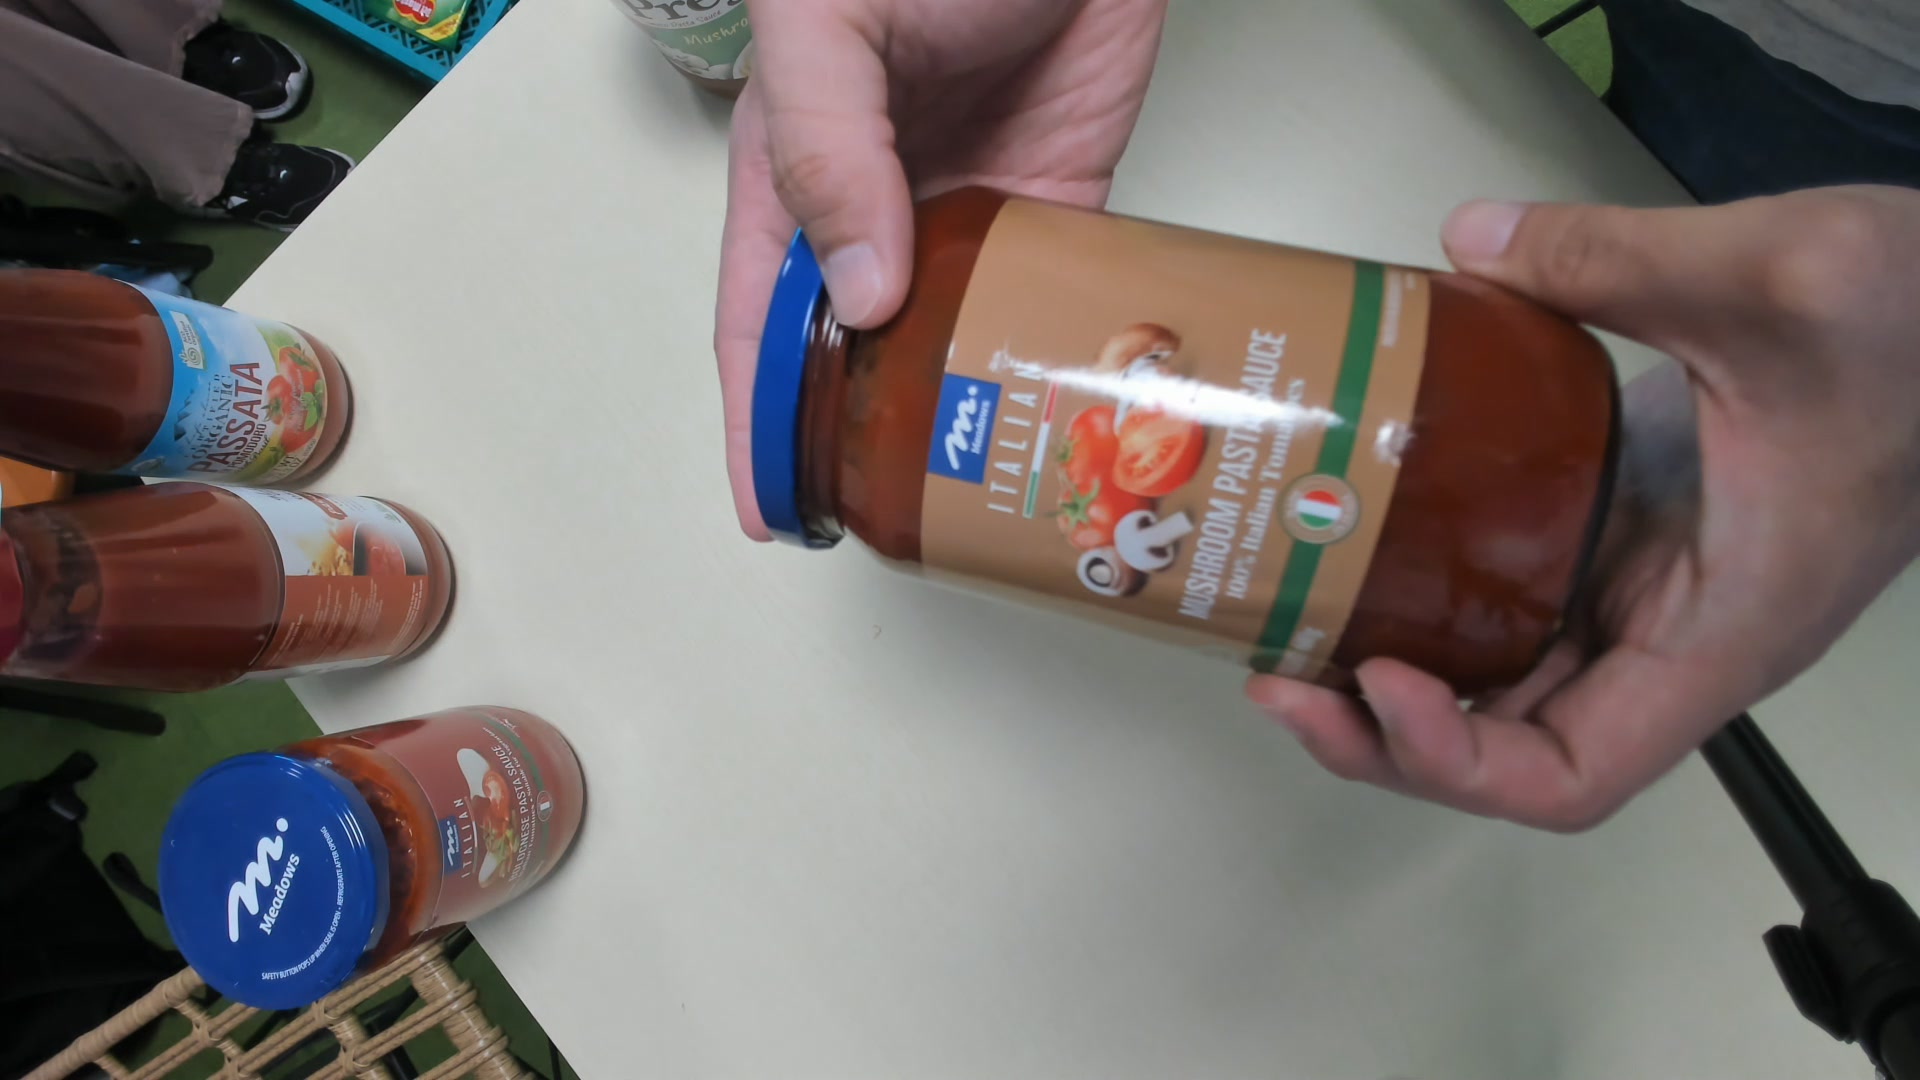PastaSauce_600-699g_Halal_NonHealthy: (760, 189, 1619, 705)
